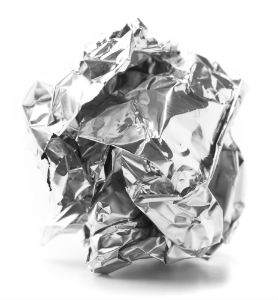metal: (21, 16, 245, 277)
